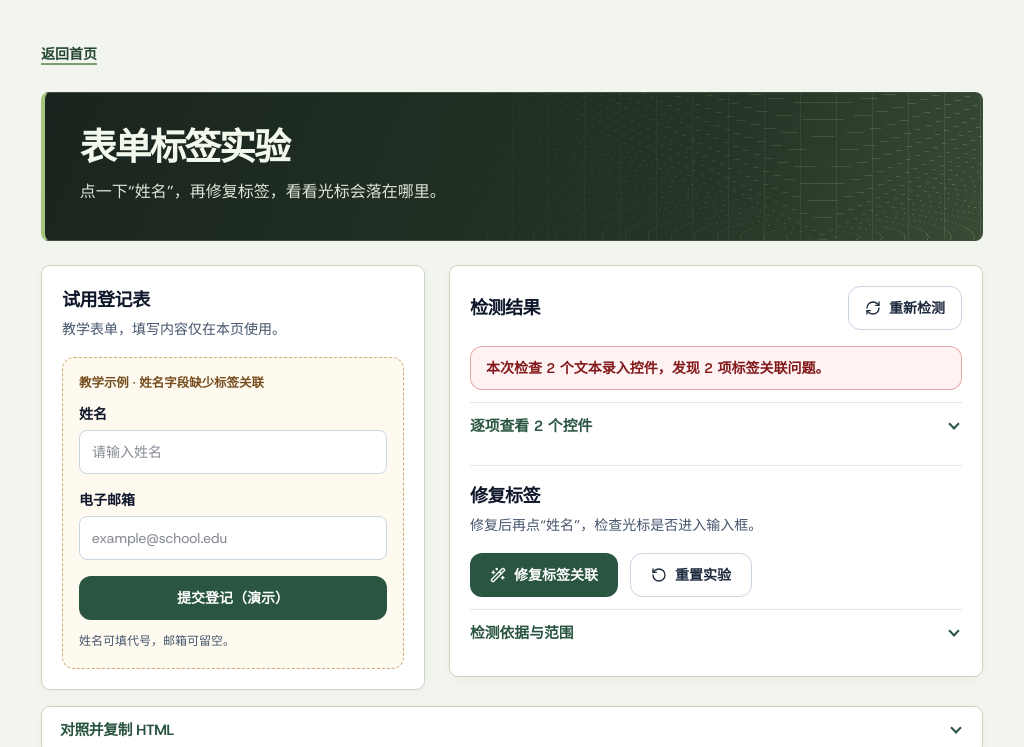
Scenario: FormLabelLabPage · 重置与重新检测（要求 #7） › 点「重置实验」后回到 span 状态，检测结果也重新报出问题
The width and height of the screenshot is (1024, 747).
Click the button "修复标签关联": (544, 575) [470,553,618,597]
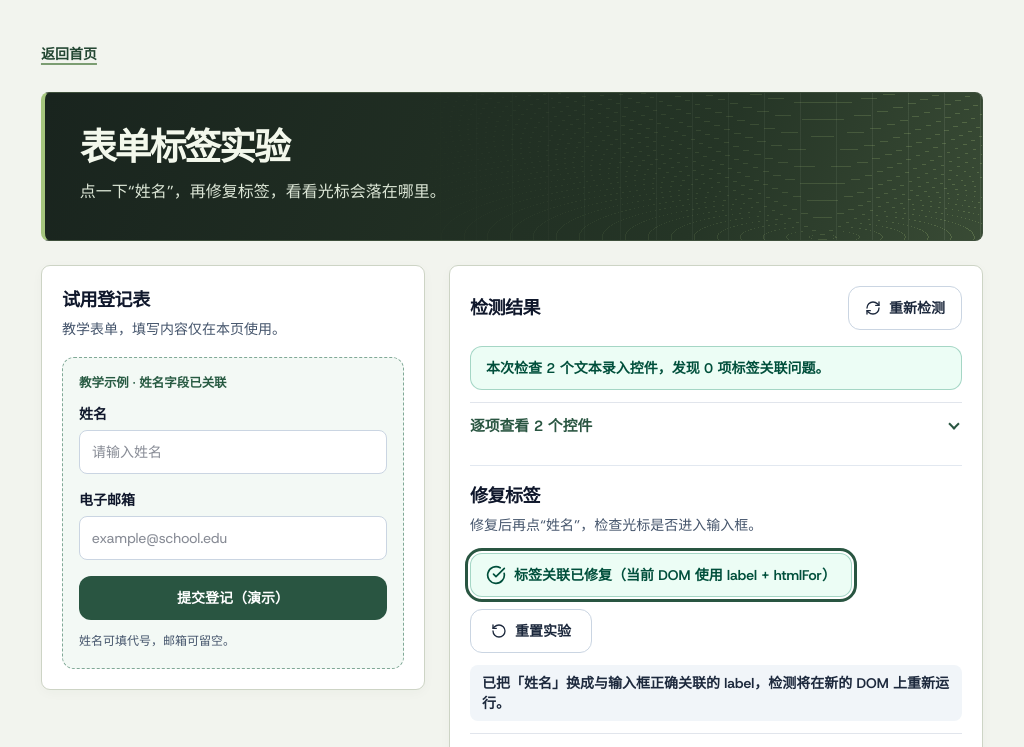
Click the button "重置实验": (531, 631) [470,609,592,653]
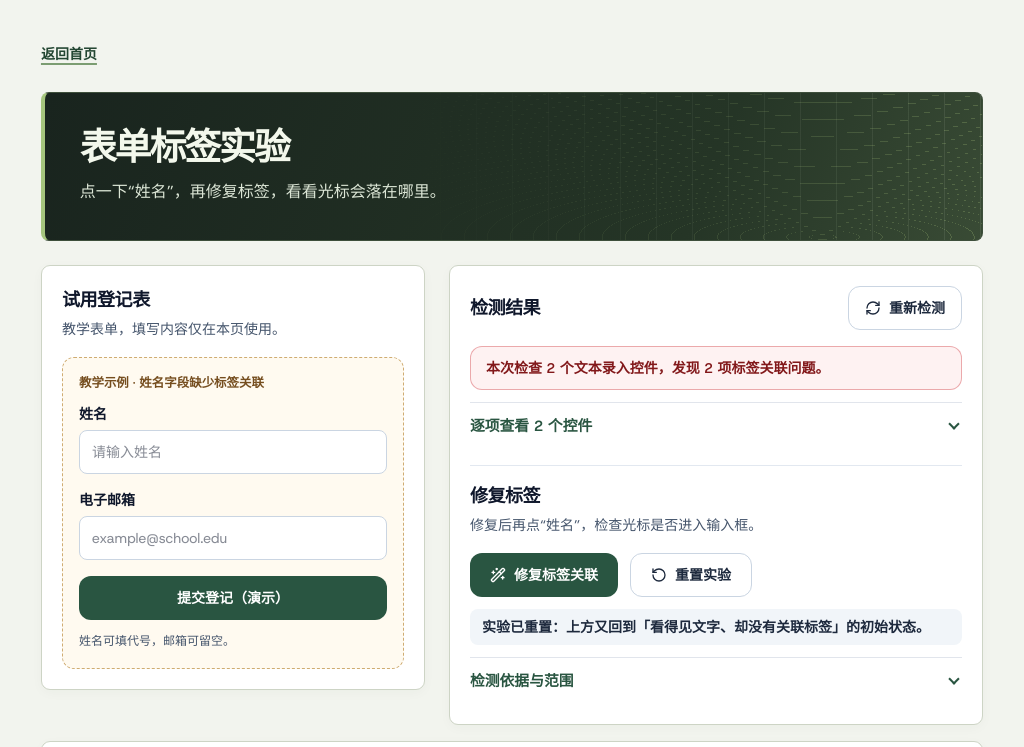
Check: the element that starts with "检测结果" shows "发现 2 项标签关联问题", box [449,265,983,725]
Check: the message "实验已重置：上方又回到「看得见文字、却没有关联标签」的初始状态。" is shown, box [470,609,962,645]
Check: the button "修复标签关联" is shown, box [470,553,618,597]
